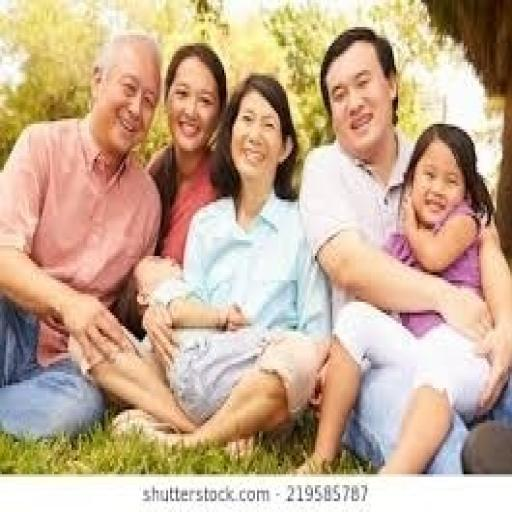sitting: (0, 24, 510, 472), (74, 67, 332, 461), (294, 24, 510, 474), (0, 27, 164, 445)
